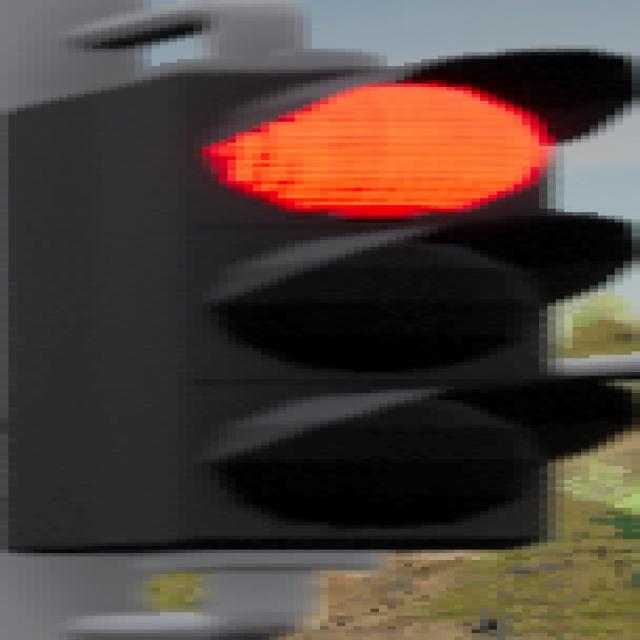red_light: (8, 41, 640, 557)
